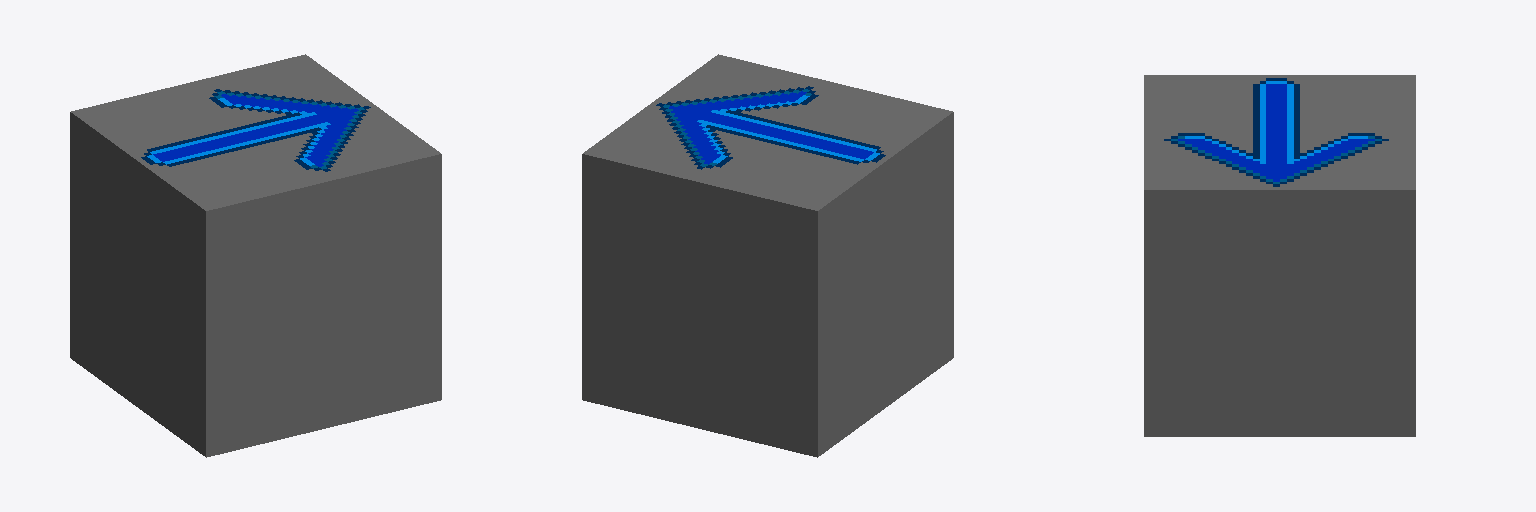
3 renders of one model, left to right at view 1: azimuth 30°, elevation 25°; view 2: azimuth 150°, elevation 25°; view 3: azimuth 270°, elevation 25°, orthographic.
Visible parts, largest first — view 1: object 1; view 2: object 1; view 3: object 1.
Part boxes in pixels (x1,y1,x2,y2): object 1: (70, 54, 441, 457); object 1: (582, 54, 953, 457); object 1: (1144, 75, 1415, 436).
Bounding box in the file's own units: 4 × 4 × 4.
1 materials, 1 textured.